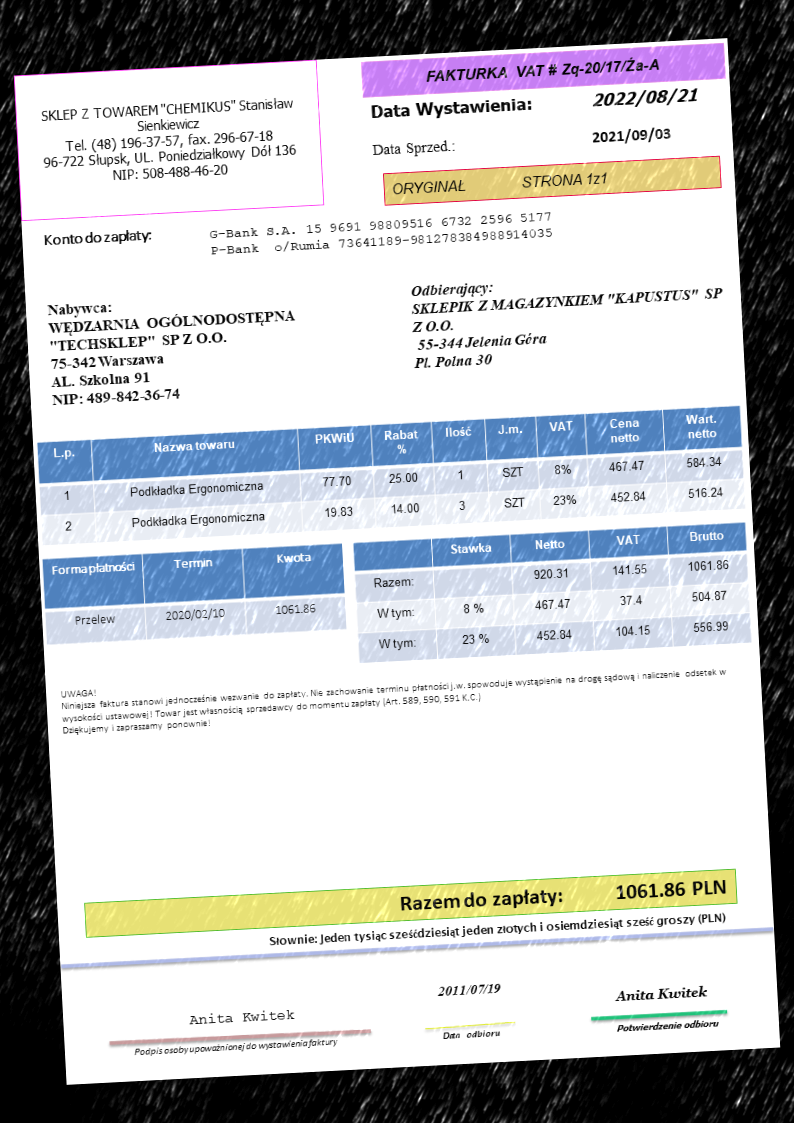Table: (35, 402, 747, 550), (349, 521, 753, 665), (41, 540, 350, 647)
TextBox: (57, 651, 732, 738), (406, 267, 728, 375), (43, 288, 305, 412), (33, 91, 303, 190), (265, 907, 728, 950), (203, 208, 557, 258), (396, 873, 730, 914), (420, 50, 666, 88), (390, 168, 610, 199), (367, 92, 536, 125), (129, 1034, 342, 1059), (590, 82, 701, 110), (38, 225, 155, 251), (186, 1006, 294, 1027), (367, 136, 460, 160), (610, 983, 712, 1004), (614, 1017, 723, 1035), (589, 126, 674, 147), (435, 980, 505, 999), (440, 1026, 506, 1042)
